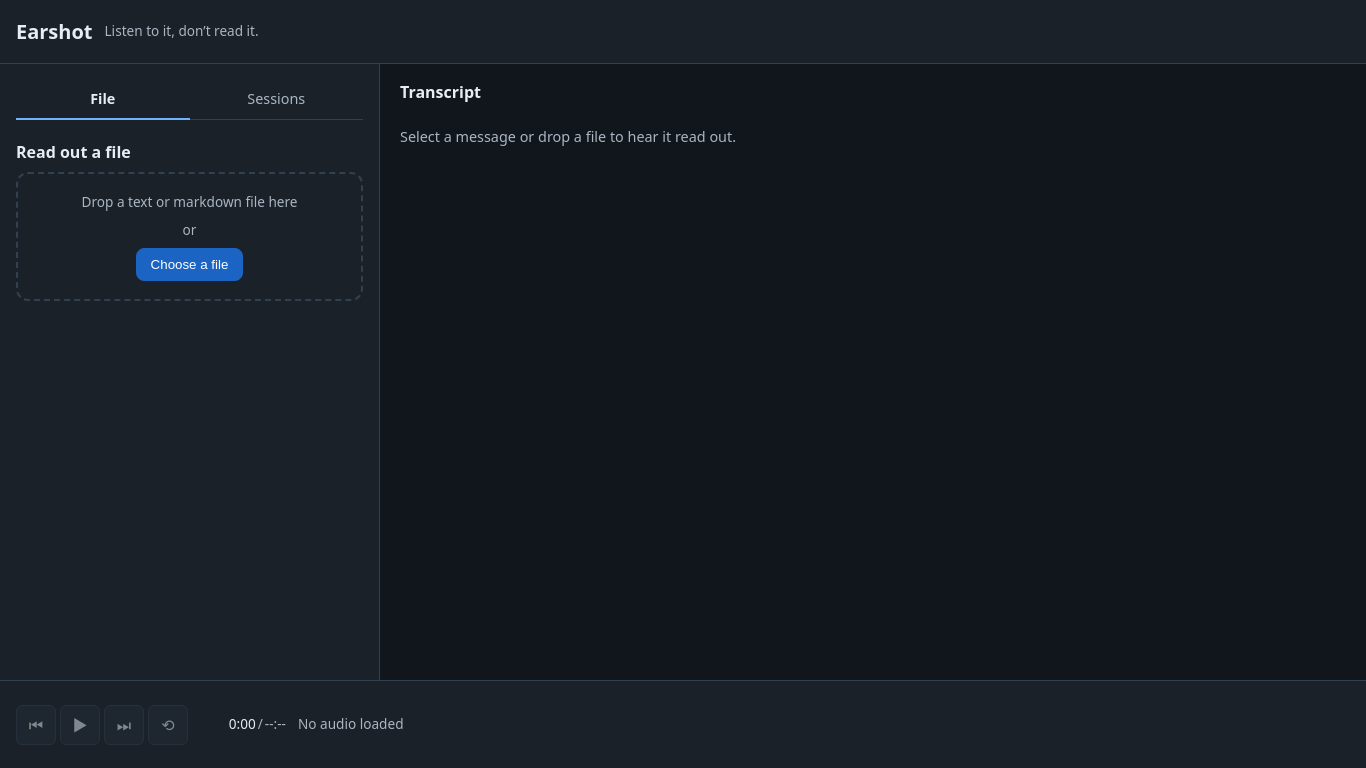
Test: Refusal-first focus target › a refusal-first transcript still exposes a focusable first block
Click the tab "Sessions" at (276, 100), box [190,80,363,120]
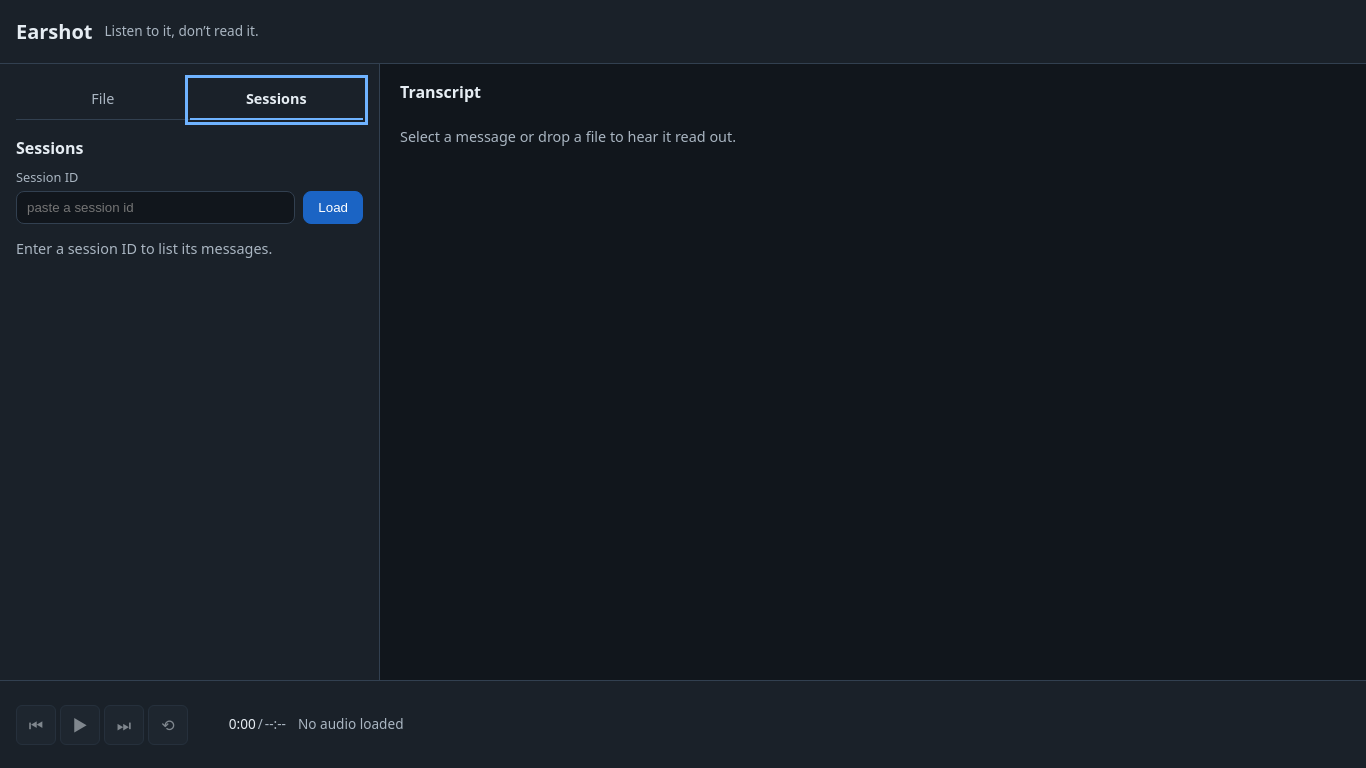
Type "demo-session-001" into the field labelled "Session ID" at (156, 207), box [16,191,295,224]
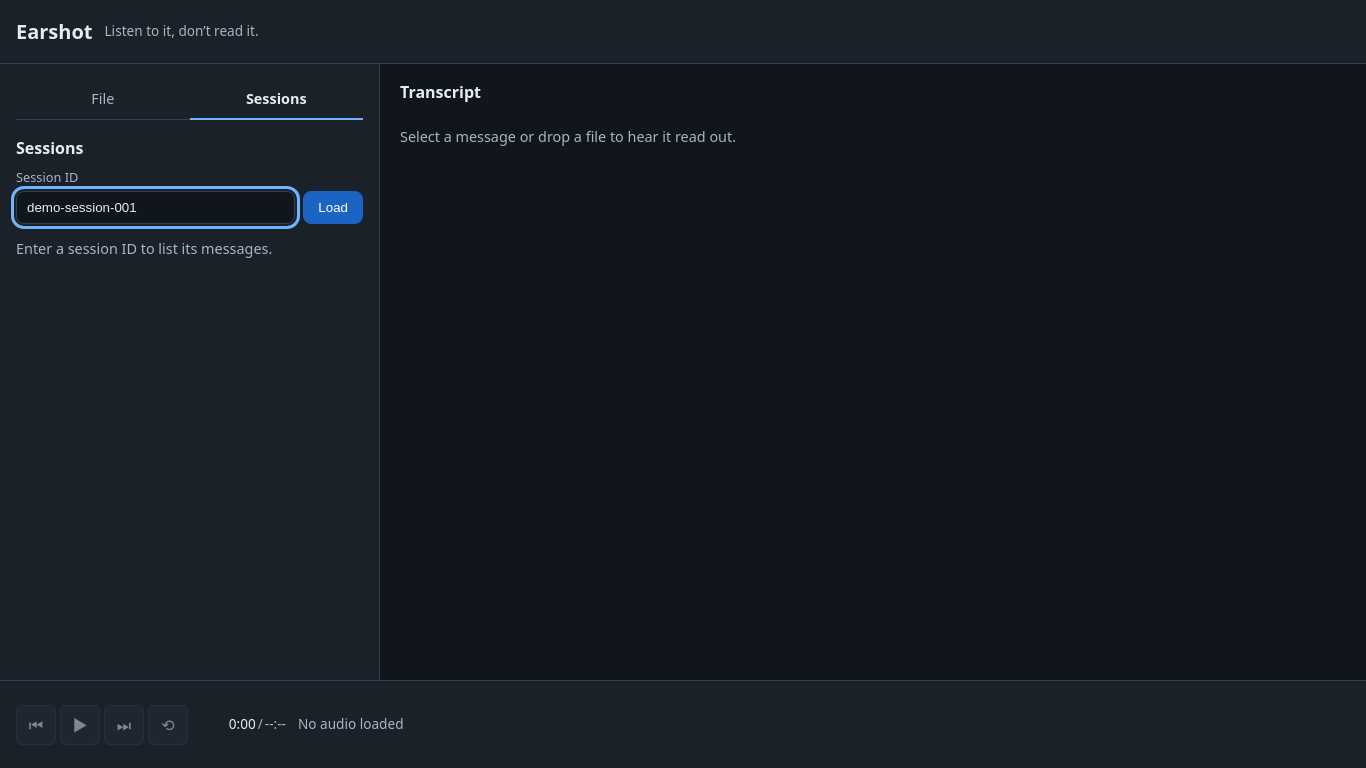
Click the button "Load" at (333, 207), box [303,191,363,224]
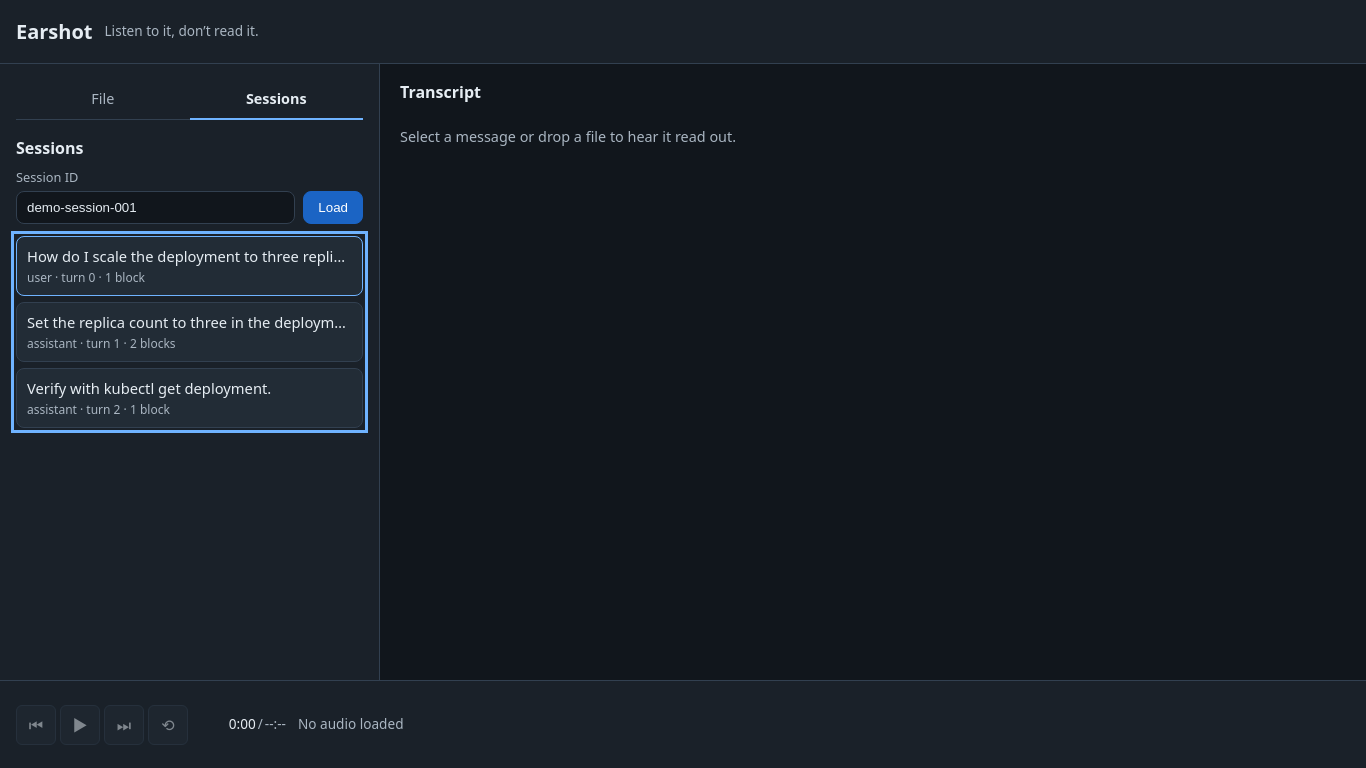
Click the 1st option at (190, 266), box [16,236,363,296]
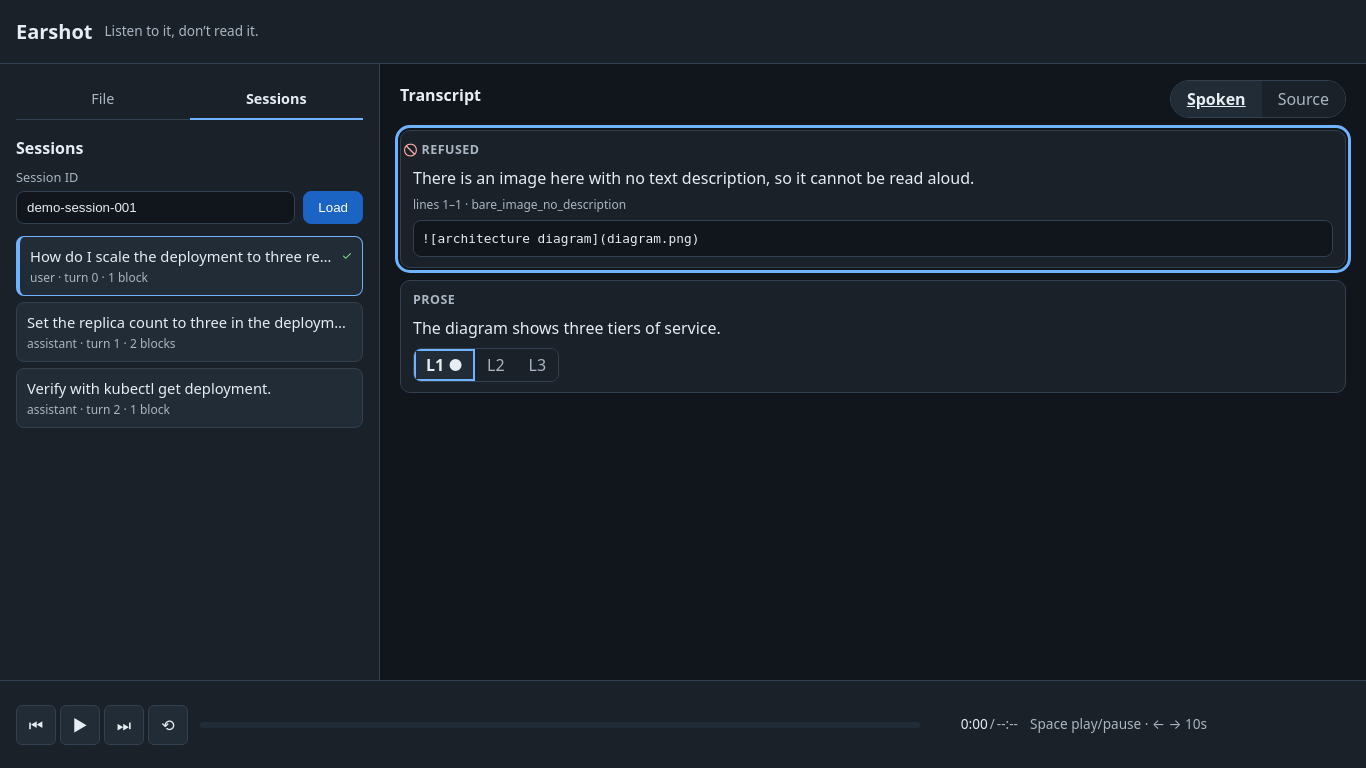
Expected: the element that starts with "Refused" is shown, [400,130,1346,268]
